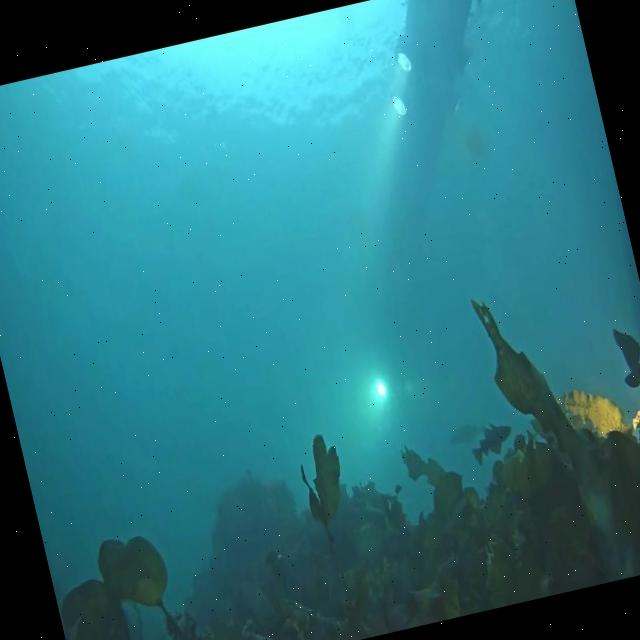fish: (463, 418, 518, 468), (446, 419, 483, 451)
